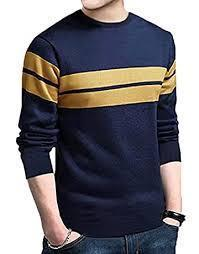Tshirt: (15, 8, 182, 240)
